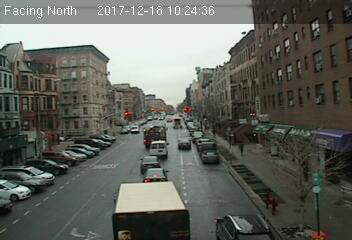car: (214, 212, 274, 238), (144, 167, 167, 180), (141, 155, 160, 170), (202, 148, 218, 163), (178, 139, 191, 148)
truck: (148, 140, 168, 156)
ups: (112, 182, 191, 240)
